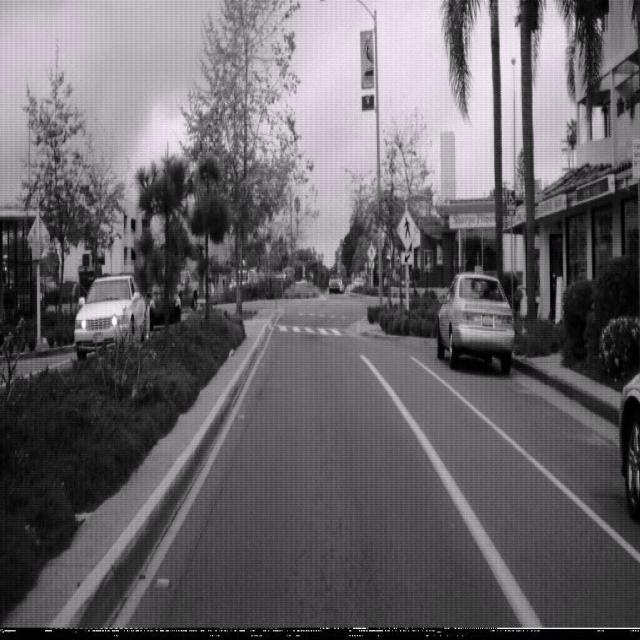pedestrianCrossing: (396, 206, 418, 251)
